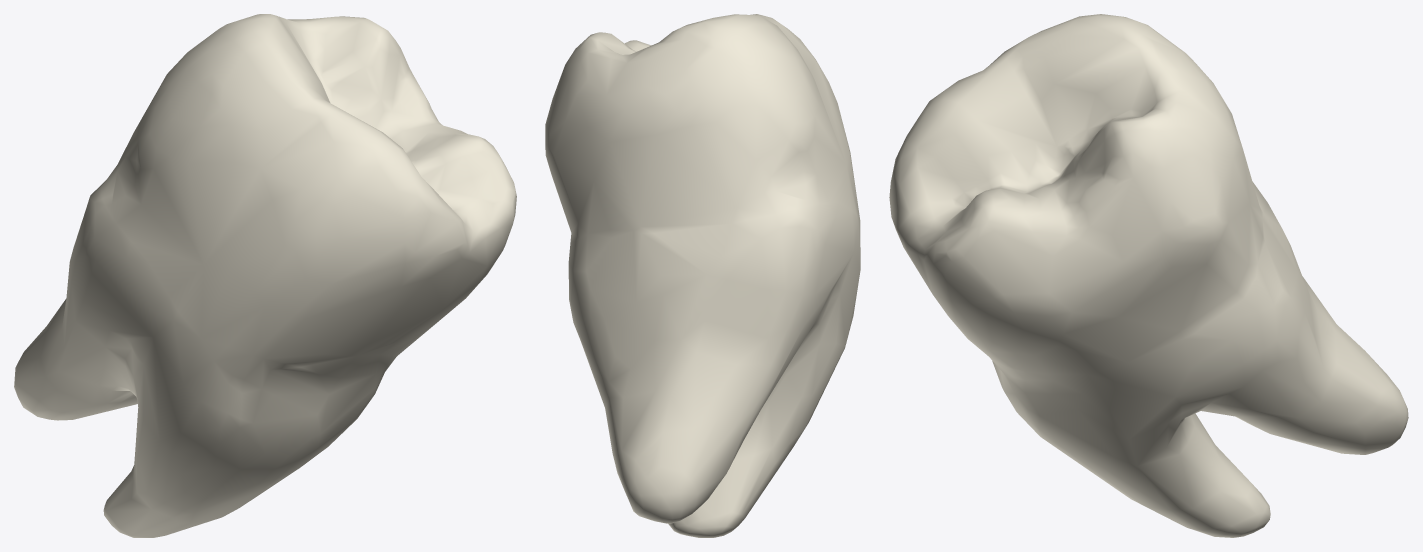
3 views of the same model, side by side, from view 1: azimuth 30°, elevation 25°; view 2: azimuth 150°, elevation 25°; view 3: azimuth 270°, elevation 25° (orthographic). The views are drawn at different scales.
Parts seen in each view (by area): view 1: ZA_cb5a1d19793b2329; view 2: ZA_cb5a1d19793b2329; view 3: ZA_cb5a1d19793b2329.
Boxes of the visible parts, x1,y1,x2,y2 form: ZA_cb5a1d19793b2329: (14,14,516,537); ZA_cb5a1d19793b2329: (545,14,860,537); ZA_cb5a1d19793b2329: (889,14,1408,537).
Bounding box in the file's own units: 0.0118 × 0.0182 × 0.0161.
